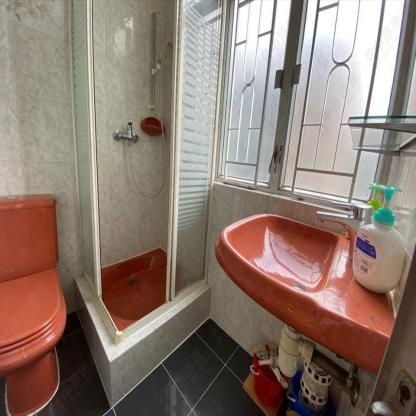Faucet: (321, 198, 359, 245)
Toilet: (1, 193, 68, 413)
Toilet Sink: (217, 214, 362, 366)
Water Cubicle: (68, 0, 226, 340)
